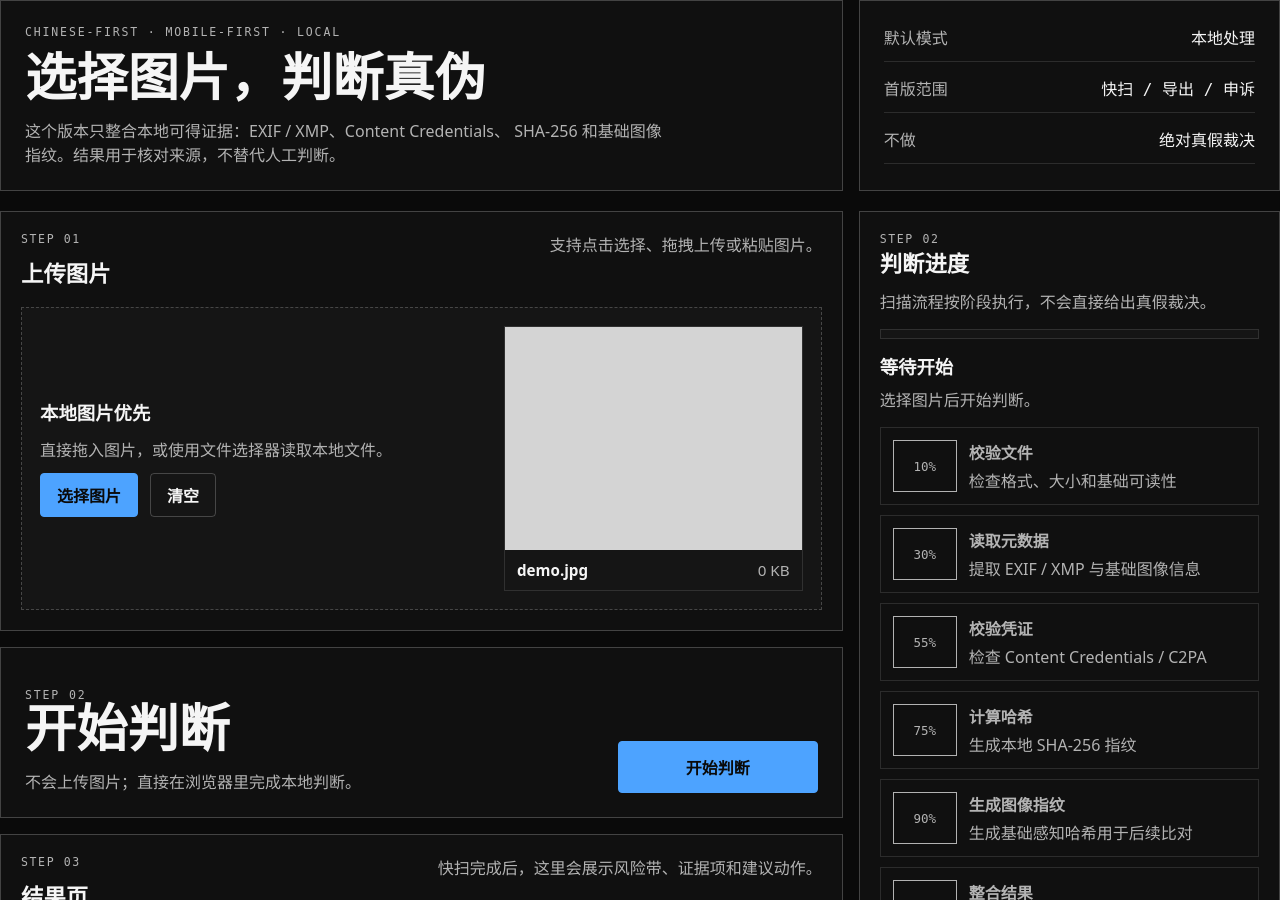
Scenario: ForensicWorkbench › runs AI image analysis through the injected server-proxy helper
The image size is (1280, 900).
Earlier steps of the test are not shown.
Click the button "开始判断" at (718, 767), box [618,741,818,793]
(page scrolled)
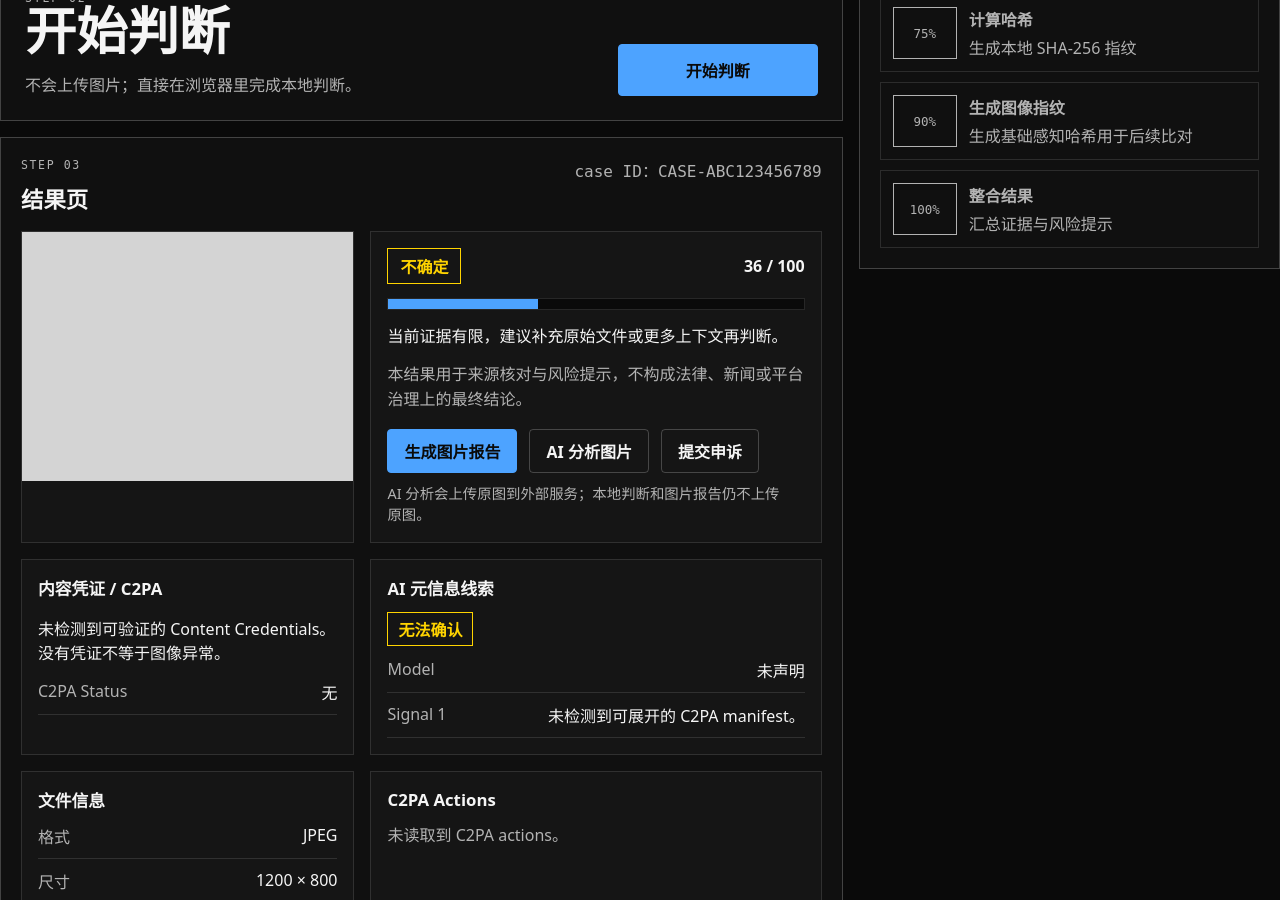
Expected: the text "当前证据有限，建议补充原始文件或更多上下文再判断。" is shown, [388,324,805,350]
Click the button "AI 分析图片" at (589, 451), box [530,429,649,473]
(page scrolled)
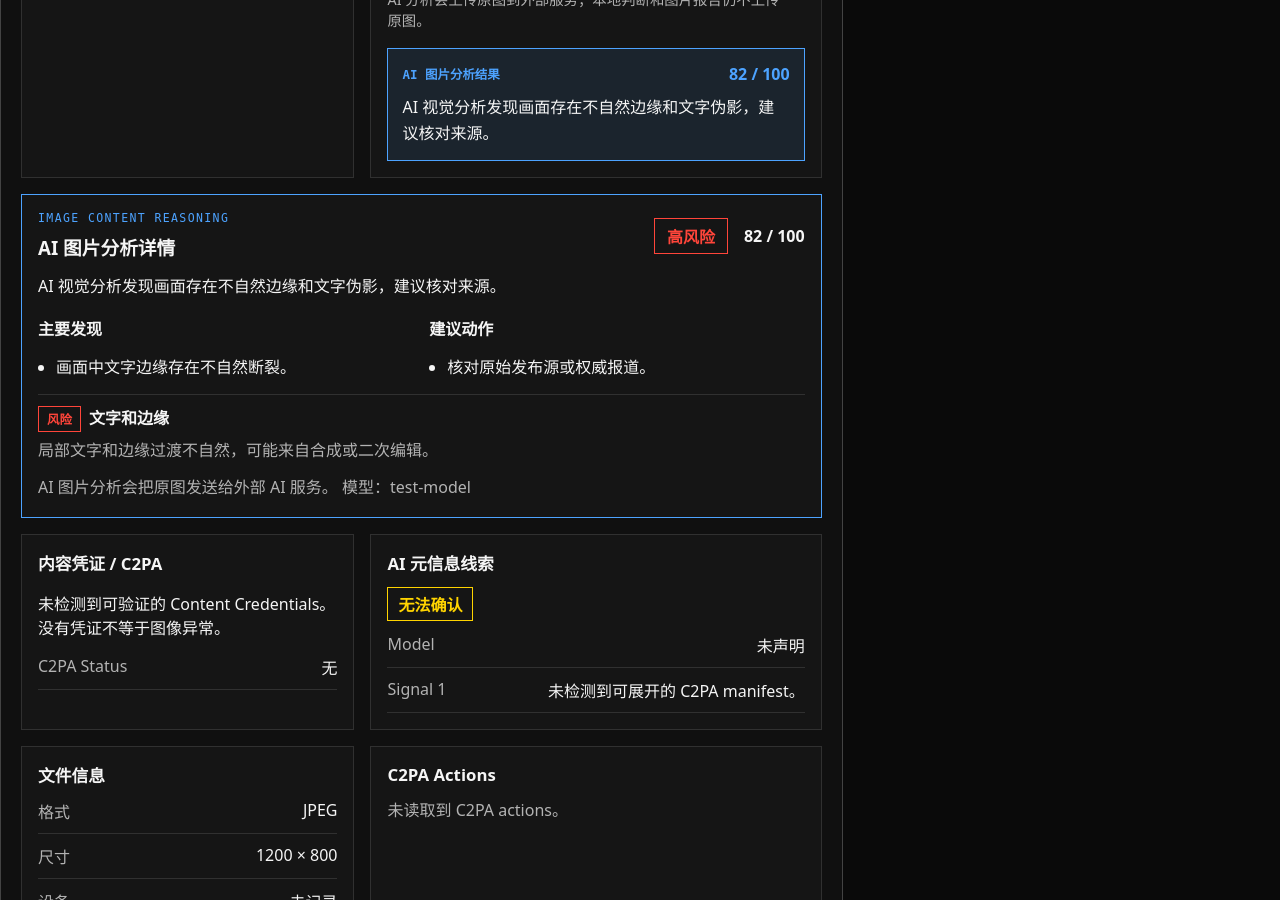
Expected: the text "AI 图片分析结果" is shown, [402,65,500,83]
Expected: the heading "AI 图片分析详情" is shown, [38,235,175,260]
Expected: the text "AI 视觉分析发现画面存在不自然边缘和文字伪影，建议核对来源。" is shown 2 times, [402,95,790,146]; [38,275,506,297]
